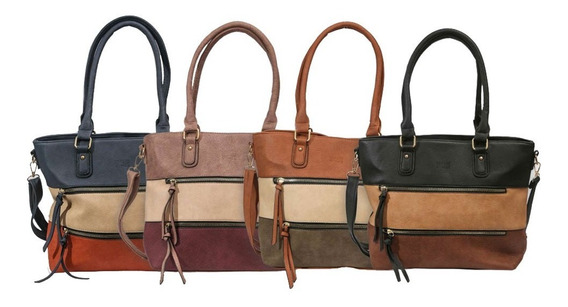cartera: (355, 28, 536, 271), (27, 14, 168, 276), (137, 21, 283, 269), (248, 20, 385, 271)
